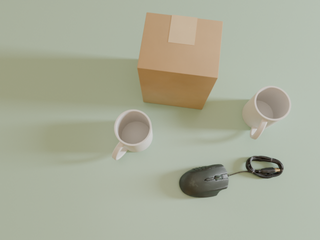box: (137, 13, 223, 109)
cup: (242, 86, 291, 139), (112, 110, 152, 160)
mouse: (179, 164, 230, 198)
